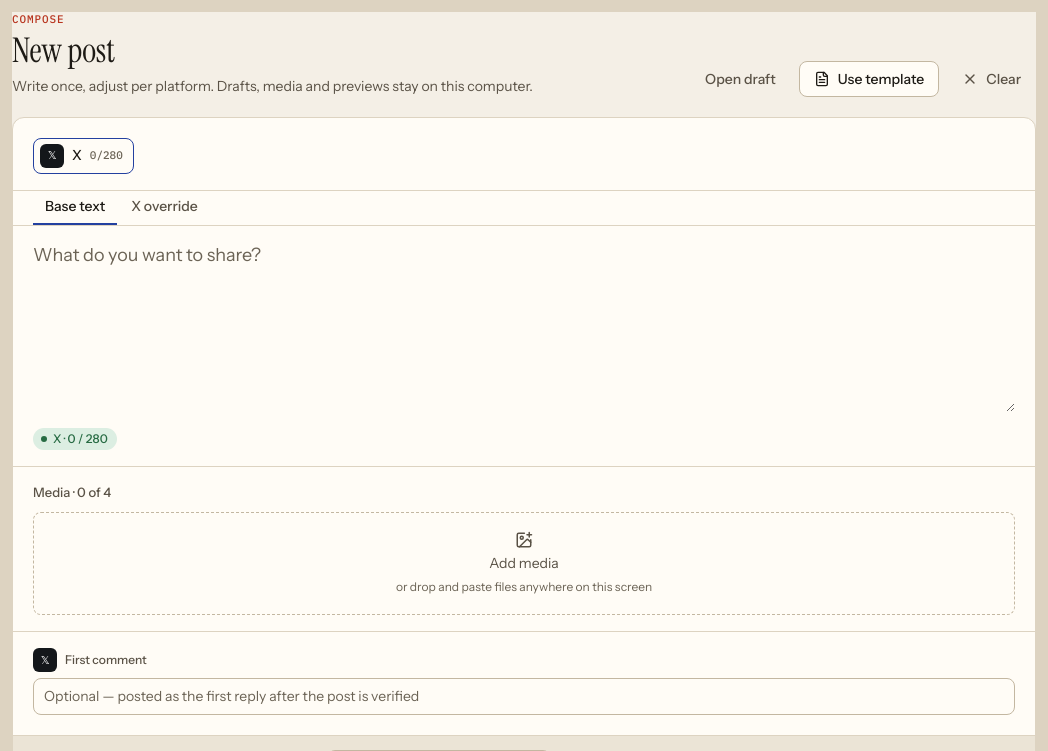
Test: Composer › reopens saved drafts with persisted media metadata
Note: Figma 6:183: drafts open from a menu next to “Use template”.
Click the button "Open draft" at (740, 79), box 690,61 -> 791,97
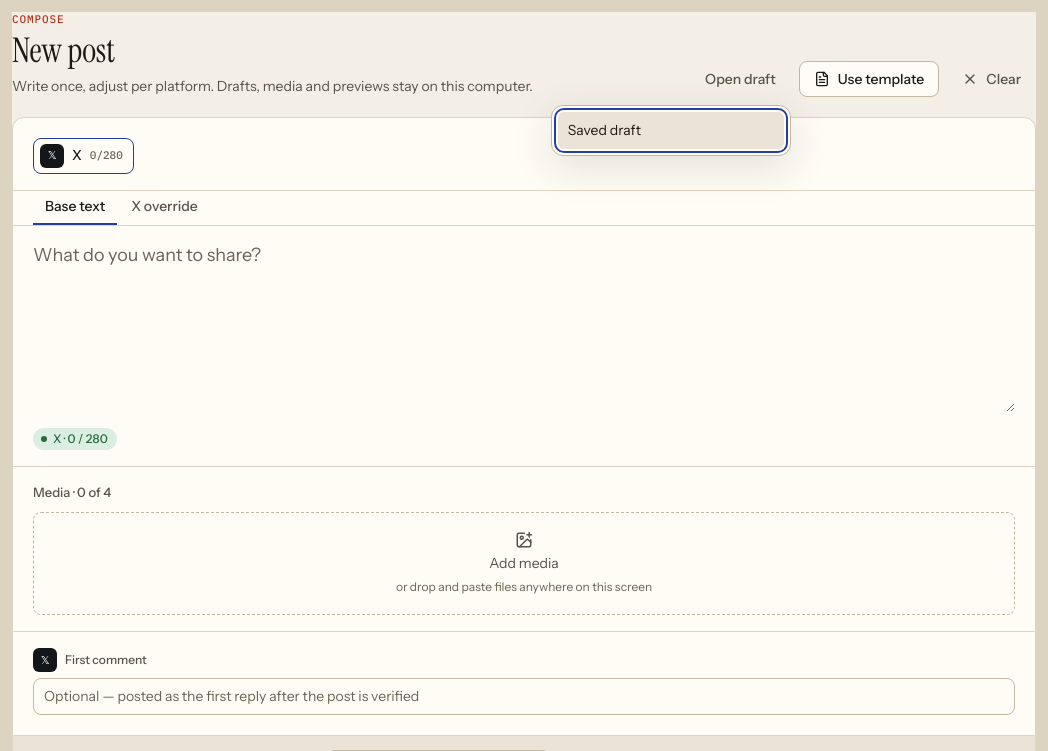
Click the menu item "Saved draft" at (671, 130), box 558,112 -> 784,149
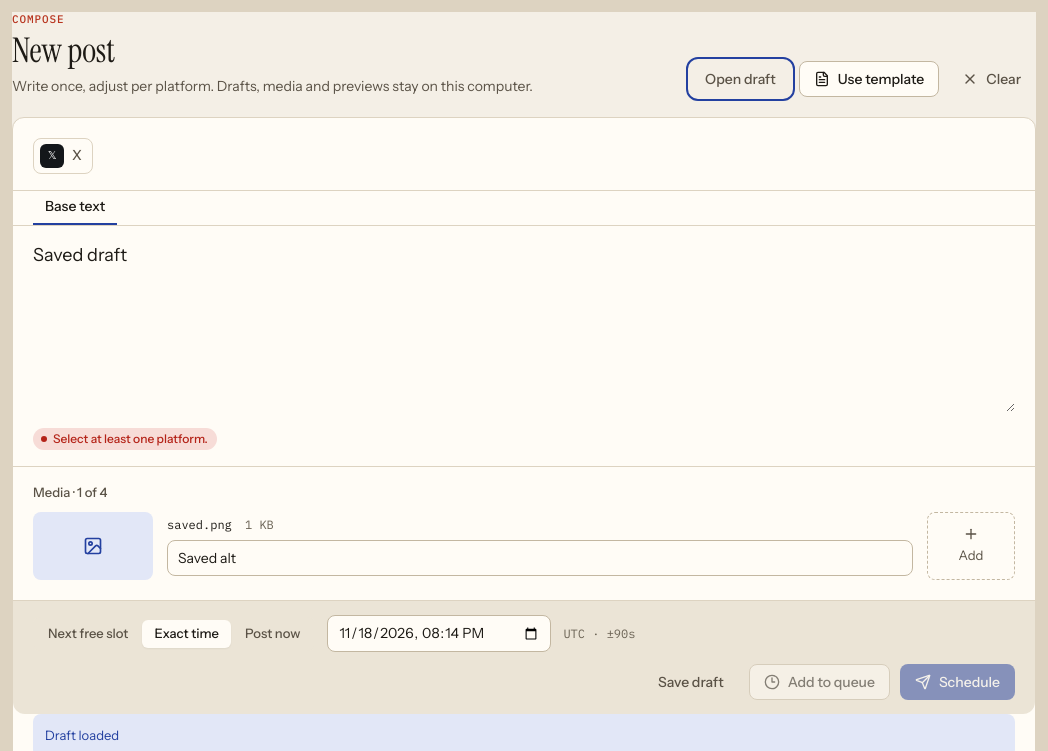
Check: the text box named "Post text" holds "Saved draft", box 33,242 -> 1015,412
Check: the field with placeholder "Alt text" holds "Saved alt", box 167,540 -> 913,576
